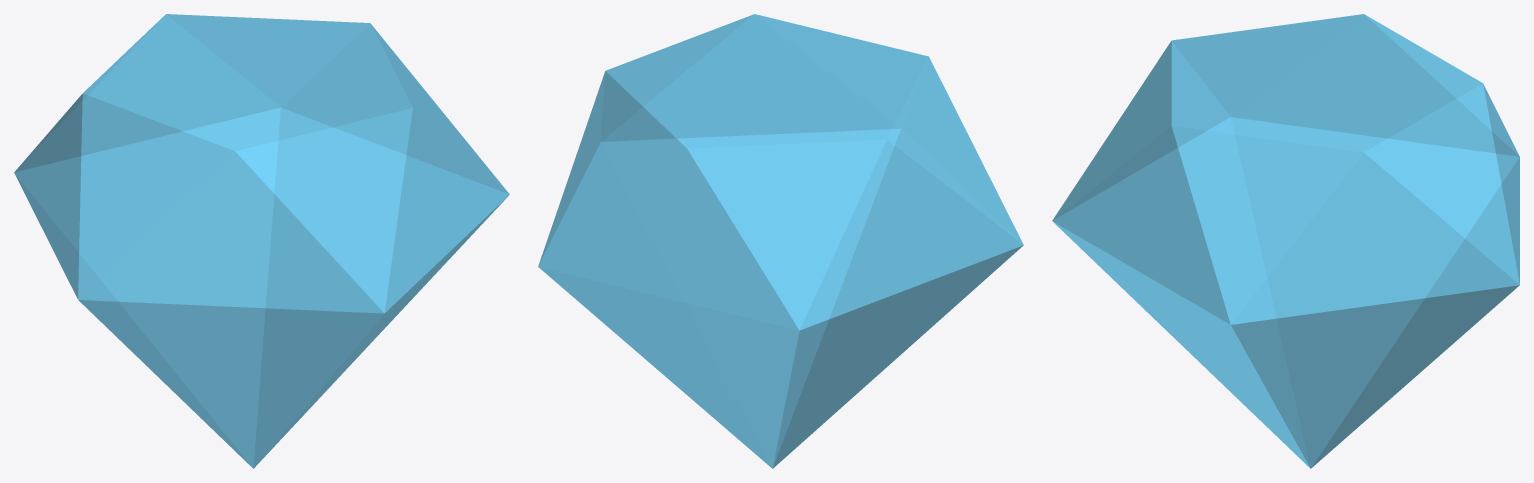
The model's file is PentagonalAntiprism.obj.
3 renders of one model, left to right at view 1: azimuth 30°, elevation 25°; view 2: azimuth 150°, elevation 25°; view 3: azimuth 270°, elevation 25°, orthographic. The views are drawn at different scales.
Bounding box in the file's own units: 1.62 × 1.4 × 1.54.
